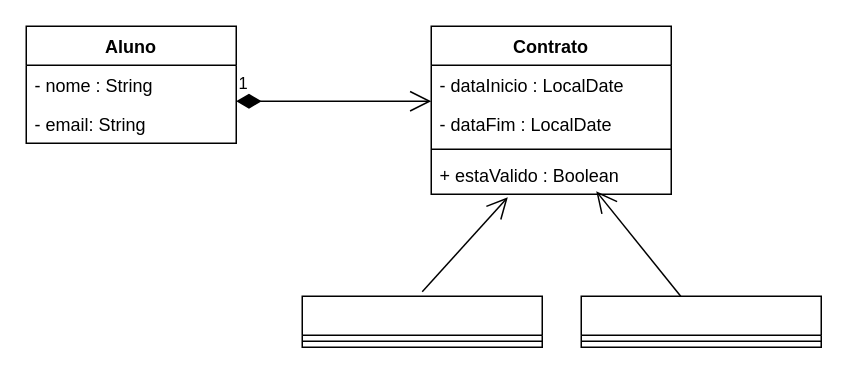
Image size: 848x374. Some labels were removed from this diagram. Here are the shapes that lost their labels. From the top down, the centre of each, then its label:
At [421,321]: "PJ".
At [700,321]: "PF".
